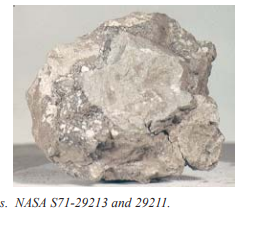Breccia: (26, 6, 232, 182), (18, 86, 227, 178), (89, 56, 227, 189)
